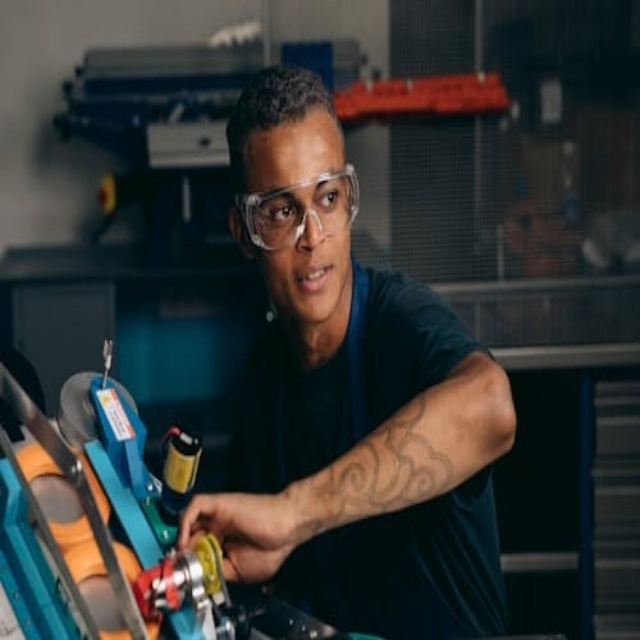Gafas: (237, 165, 358, 251)
Sin_guantes: (173, 475, 296, 590)
Sin_mascara: (283, 258, 343, 317)
